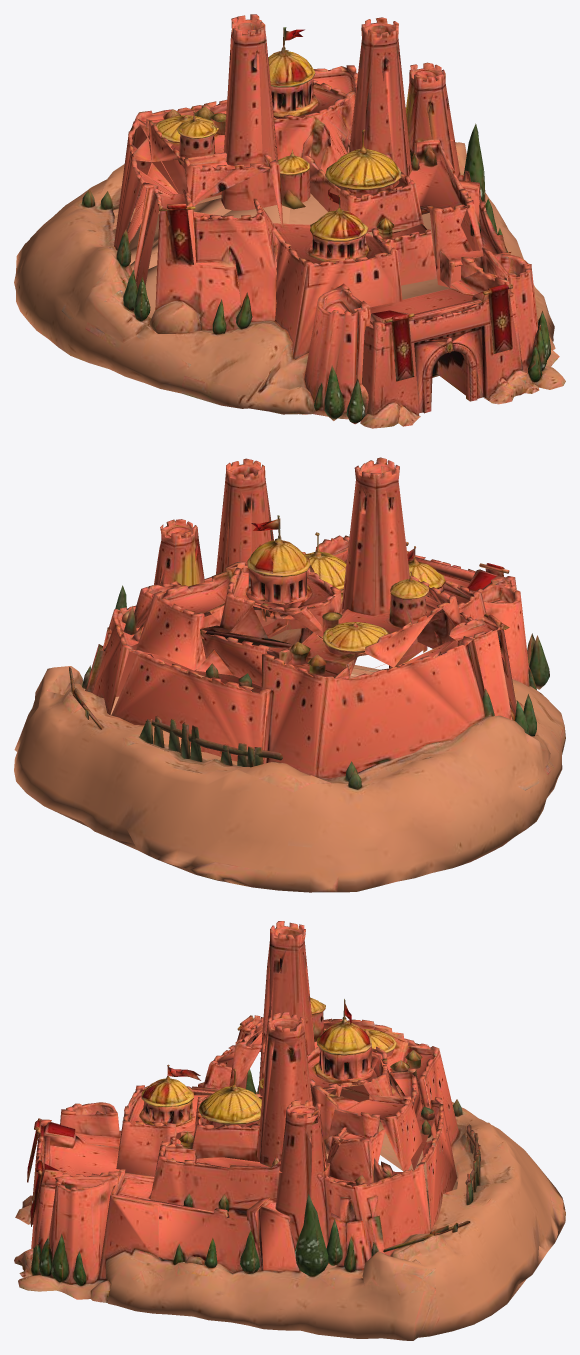
File: citta.glb
3 views of the same model, one above another, from view 1: azimuth 30°, elevation 25°; view 2: azimuth 150°, elevation 25°; view 3: azimuth 270°, elevation 25° (orthographic). The views are drawn at different scales.
Size of the model in its own units: 0.8506 by 0.5347 by 0.9502.
Materials: 1 (1 with a texture image).
